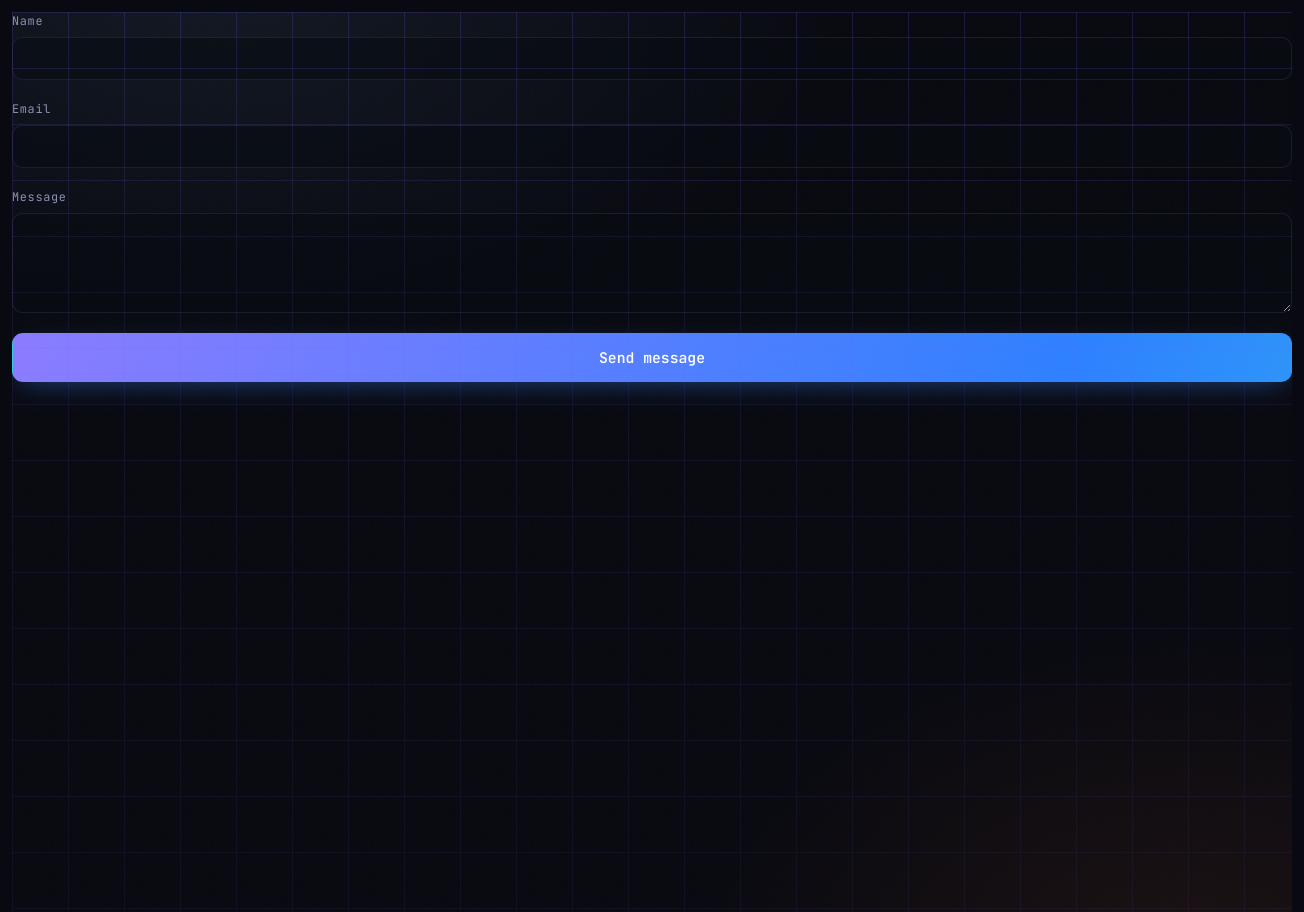
ContactForm › surfaces field errors from a 400 response
Type "Bob" into the field labelled "Name".
click(652, 58); type("Bob")  # box [12,37,1292,80]
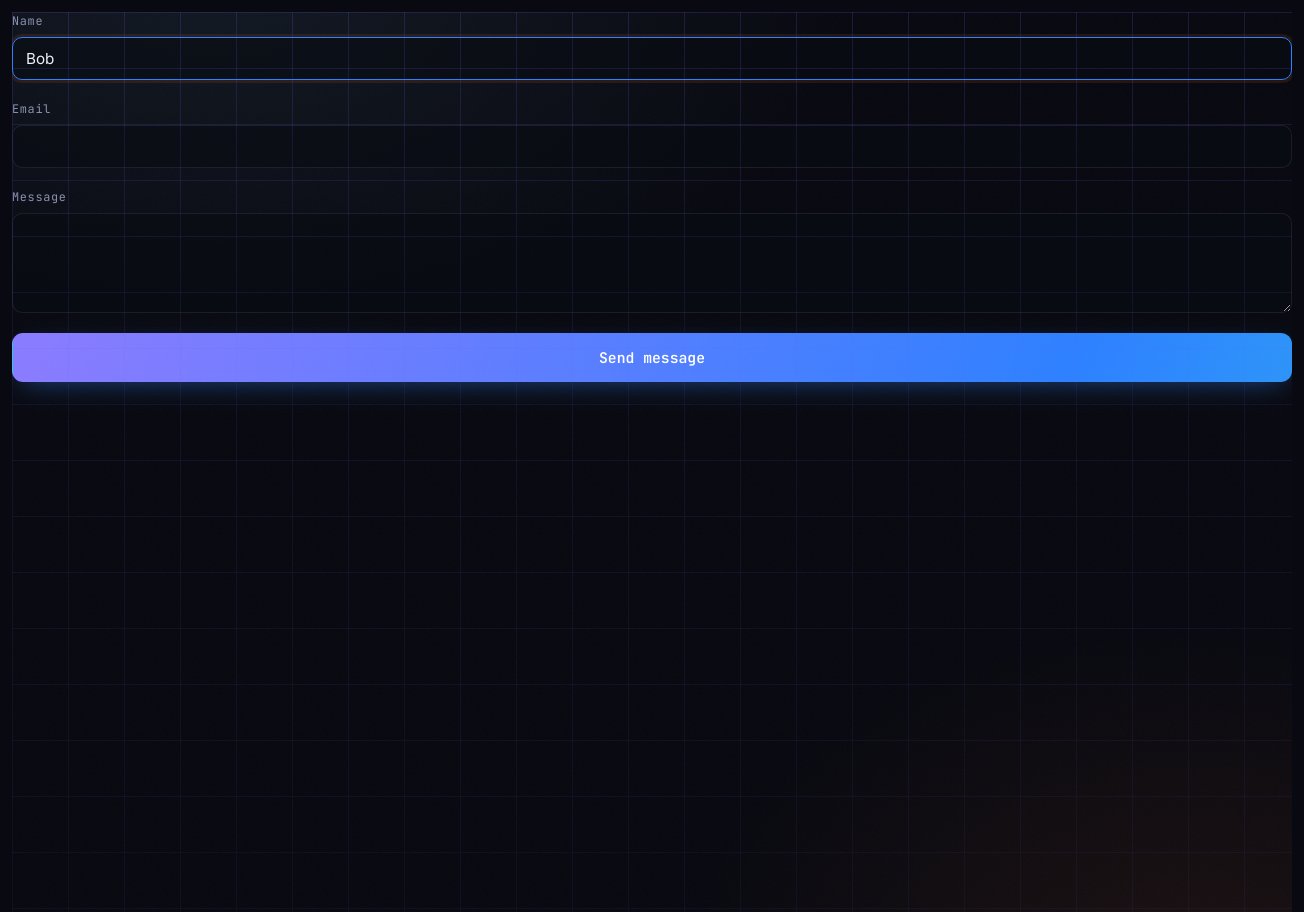
Type "bad" into the field labelled "Email".
click(652, 146); type("bad")  # box [12,125,1292,168]
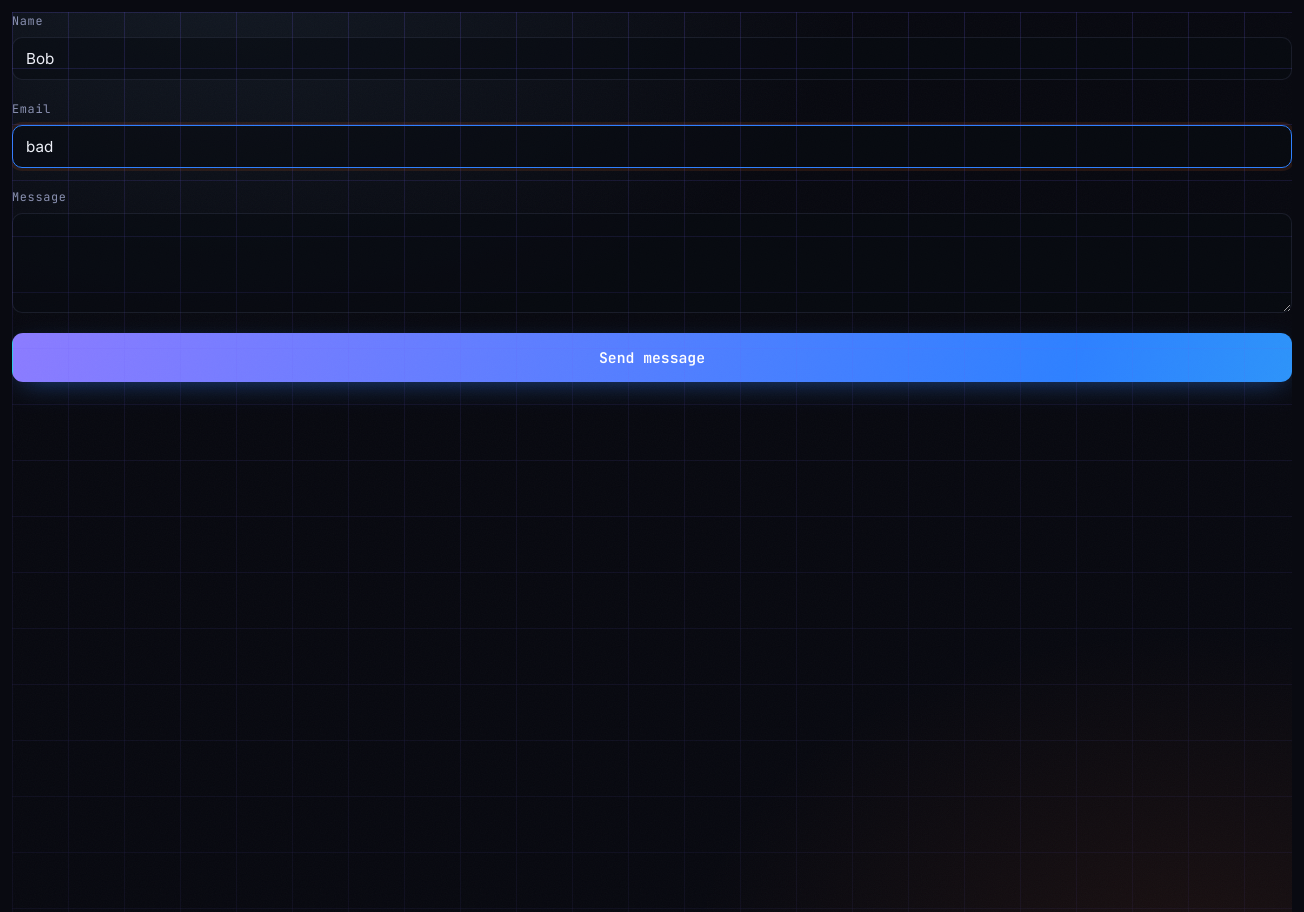
Type "this is long enough" into the text box labelled "Message".
click(652, 263); type("this is long enough")  # box [12,213,1292,313]
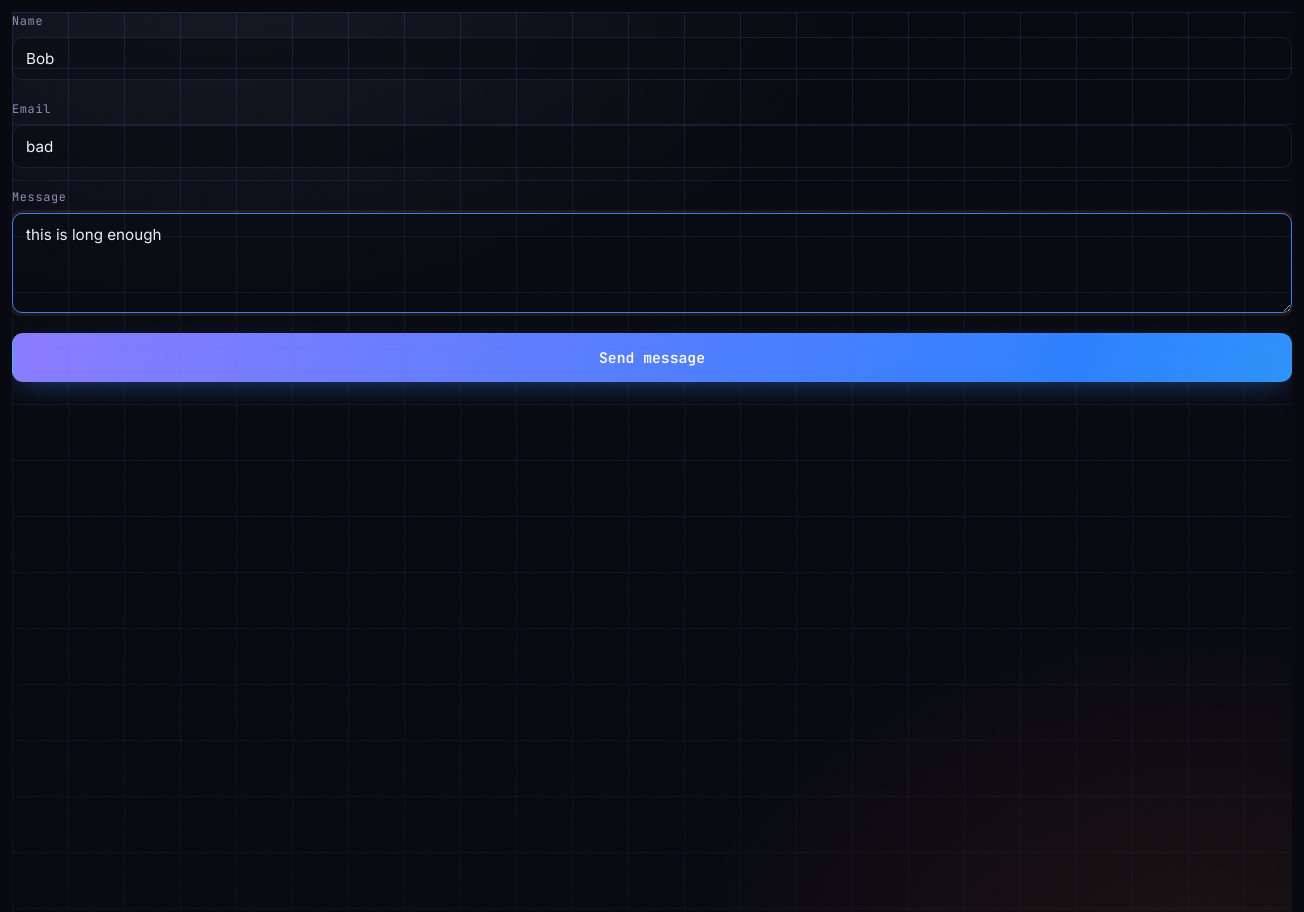
Click the button "Send message".
click(652, 357)  # box [12,333,1292,382]
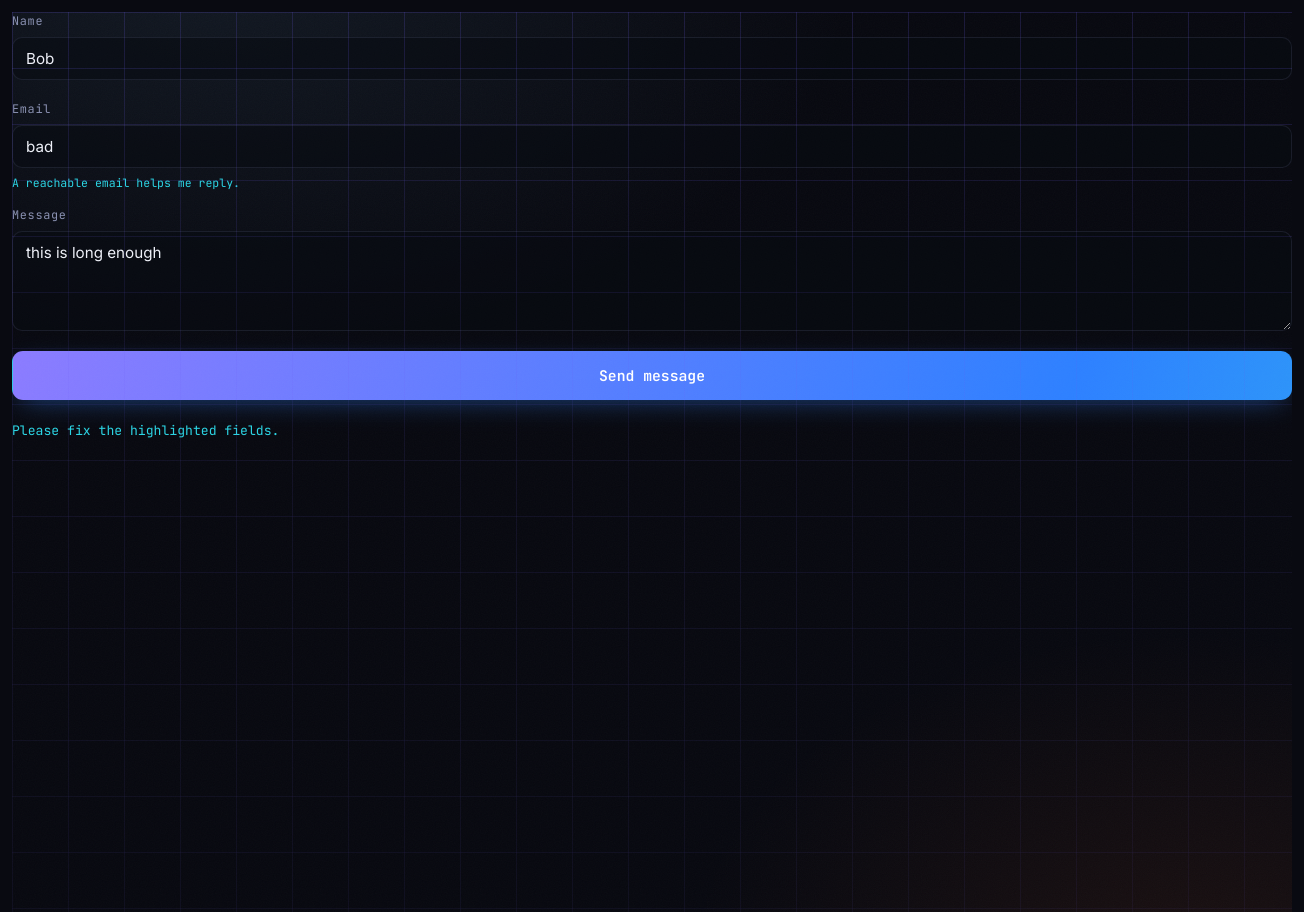
expect the text "A reachable email helps me reply." is shown: met, box [12,175,240,190]
